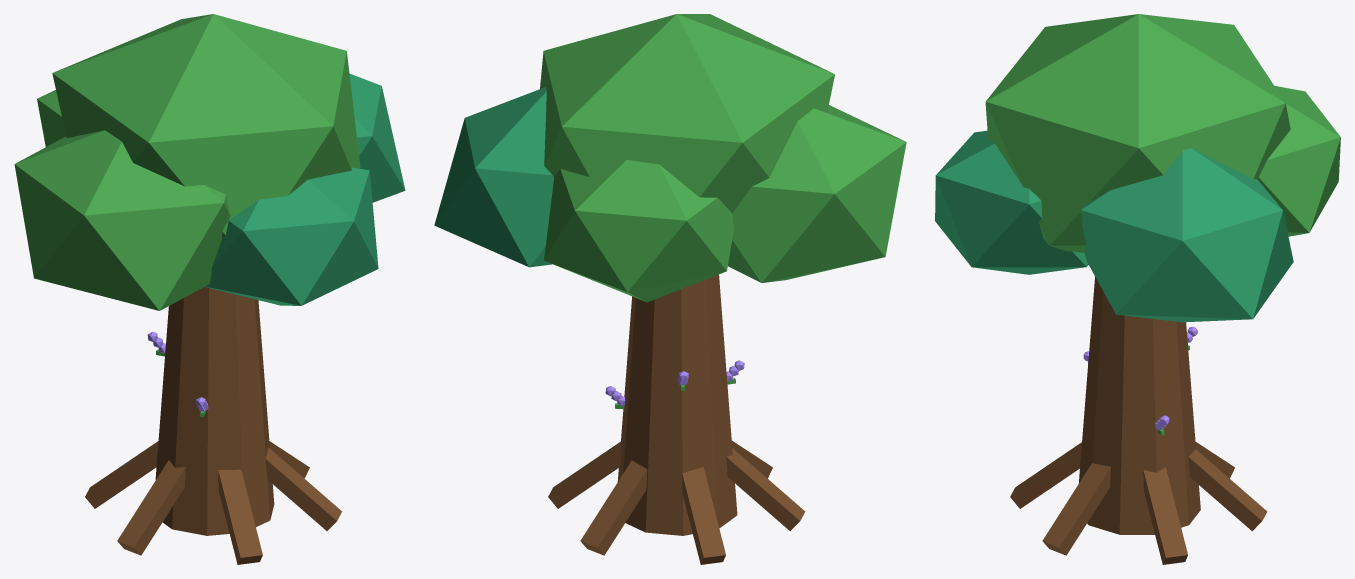
The model's file is pohon_besar_v001.glb.
3 views of the same model, side by side, from view 1: azimuth 30°, elevation 25°; view 2: azimuth 150°, elevation 25°; view 3: azimuth 270°, elevation 25° (orthographic).
Parts seen in each view (by area): view 1: Pohon_Besar; view 2: Pohon_Besar; view 3: Pohon_Besar.
Part boxes in pixels (box(x1,y1,x2,y2)): Pohon_Besar: box(14, 14, 405, 564); Pohon_Besar: box(434, 14, 906, 564); Pohon_Besar: box(935, 14, 1340, 564).
Size of the model in its own units: 6.07 by 7.57 by 5.56.
